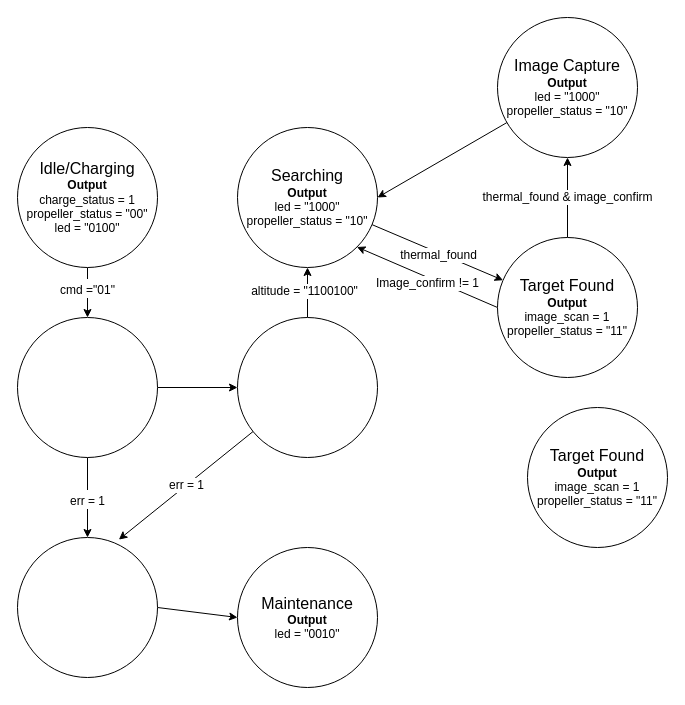
The diagram is 685 pixels wide and 705 high, and some of its shapes have lost their labels. Here are the shapes that lost their labels. From the top down, the centre of each, then its label:
the point at 87,387: Initialization Output check_sensors = 1 check_propellers = 1
the point at 307,387: Takeoff Output propeller_status = "01"
the point at 87,607: Fail Output flight_error = 1 led = "0001"
